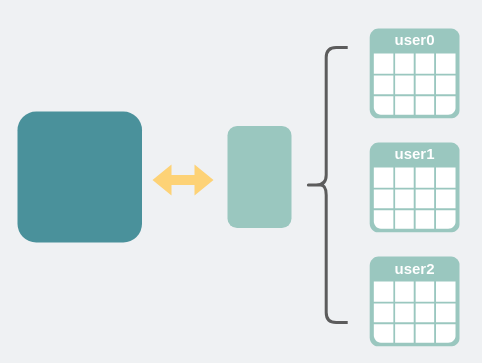
Image size: 482x363. Some labels were removed from this diagram. Here are the shapes that lost their labels. From the top down, the box of each, then its label:
(17, 111, 142, 242): go/java
(227, 126, 291, 228): proxy
